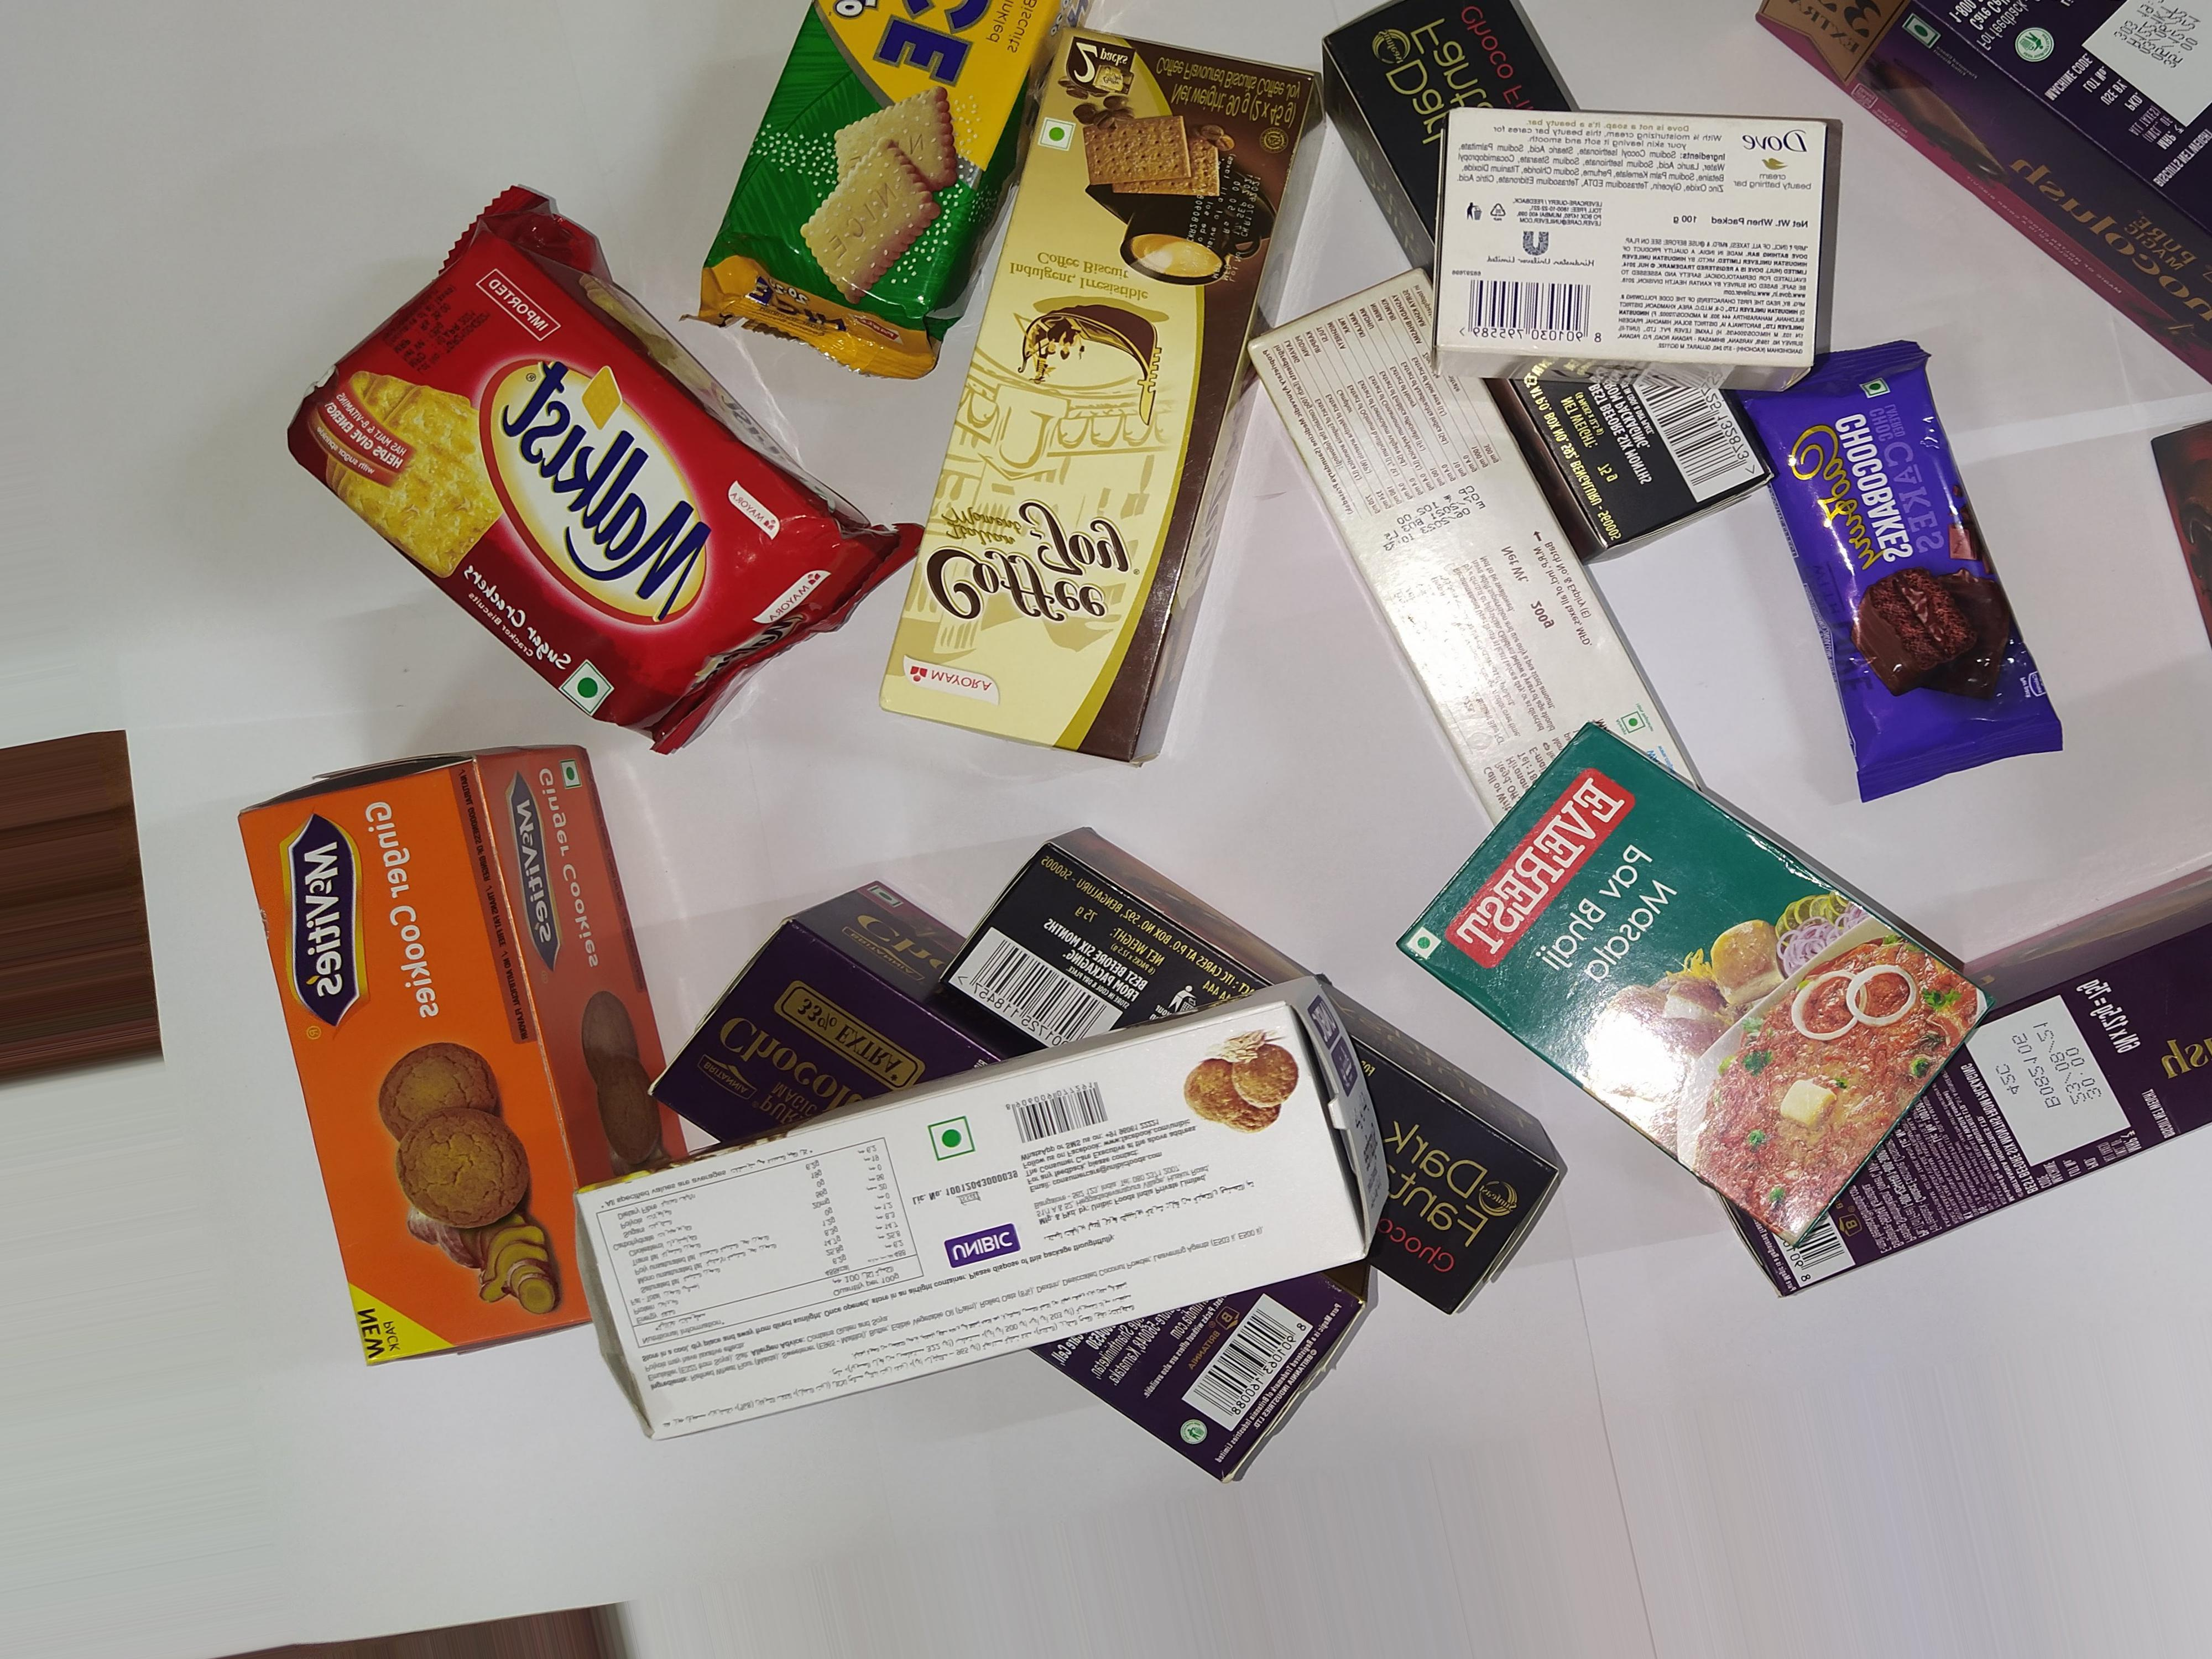Bar_code: (911, 913, 1127, 1077), (1632, 335, 1782, 518), (1181, 1279, 1339, 1452), (1449, 256, 1602, 356), (1770, 1206, 1874, 1297), (1005, 1077, 1120, 1138)
Item: (1242, 270, 1827, 915), (275, 166, 902, 748), (608, 1012, 1447, 1438), (960, 800, 1599, 1349), (1421, 714, 1998, 1258), (221, 756, 691, 1412), (946, 0, 1306, 777), (1719, 329, 2104, 798), (1674, 995, 2196, 1317), (1409, 66, 1871, 427), (676, 0, 1057, 369)
